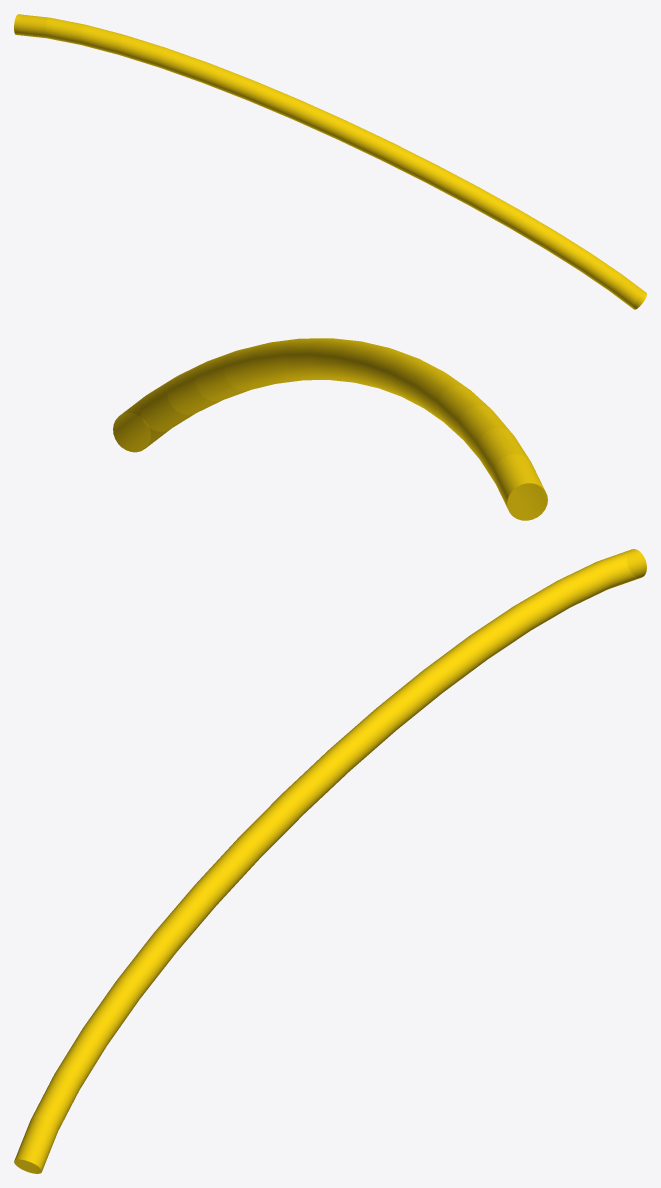
The model's file is Event_420604493_track_16.fbx.
3 views of the same model, one above another, from view 1: azimuth 30°, elevation 25°; view 2: azimuth 150°, elevation 25°; view 3: azimuth 270°, elevation 25° (orthographic). The views are drawn at different scales.
Parts seen in each view (by area): view 1: Model; view 2: Model; view 3: Model.
Boxes of the visible parts, x1,y1,x2,y2 form: Model: (14, 14, 646, 309); Model: (113, 338, 547, 520); Model: (14, 549, 646, 1173).
Bounding box in the file's own units: 0.9348 × 0.5029 × 0.8447.
